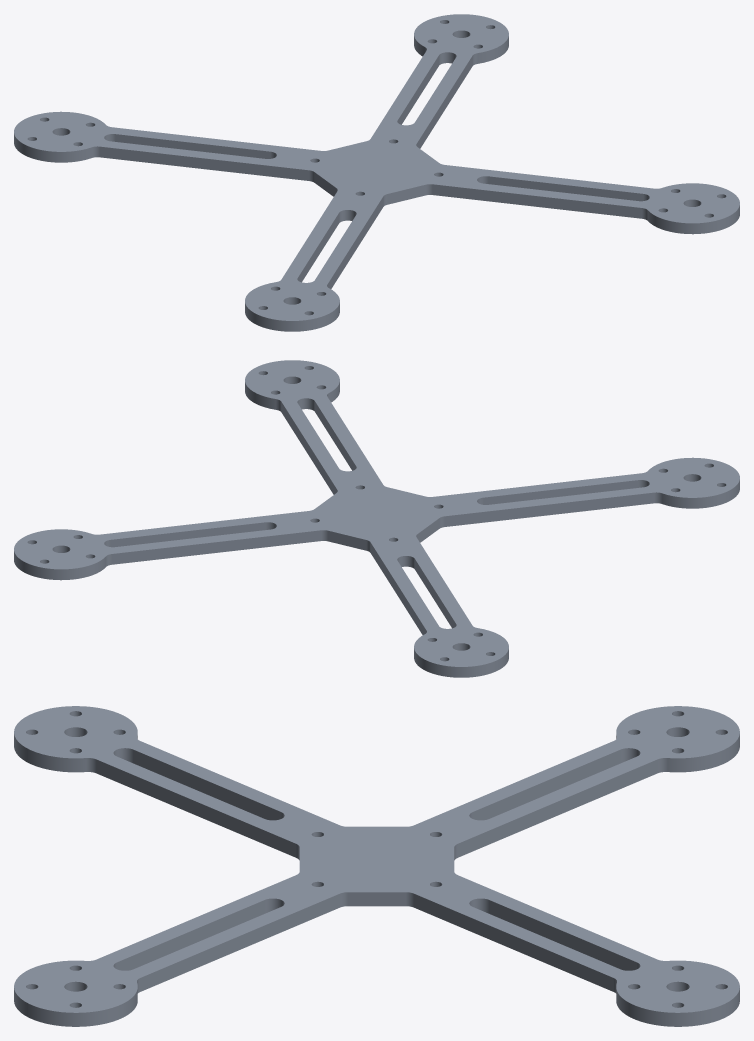
Rendered from step-5-preview-1.glb.
The picture shows the model from 3 angles, top to bottom: view 1: azimuth 30°, elevation 25°; view 2: azimuth 150°, elevation 25°; view 3: azimuth 270°, elevation 25°; orthographic projection. The views are drawn at different scales.
Parts seen in each view (by area): view 1: preview_4, preview_21, preview_22, preview_51, preview_59, preview_33, preview_17, preview_18, preview_5, preview_29; view 2: preview_4, preview_6, preview_30, preview_66, preview_40, preview_18, preview_0, preview_33, preview_13, preview_14; view 3: preview_4, preview_14, preview_29, preview_5, preview_13, preview_42, preview_57, preview_49, preview_68, preview_0, preview_17, preview_18 (+2 smaller).
Boxes of the visible parts, x1=… form: preview_4: x1=14, y1=14, x2=739, y2=320; preview_21: x1=432, y1=184, x2=641, y2=218; preview_22: x1=99, y1=146, x2=308, y2=180; preview_51: x1=488, y1=176, x2=643, y2=201; preview_59: x1=115, y1=134, x2=270, y2=158; preview_33: x1=245, y1=302, x2=339, y2=331; preview_17: x1=648, y1=205, x2=739, y2=234; preview_18: x1=14, y1=133, x2=91, y2=162; preview_5: x1=416, y1=56, x2=472, y2=148; preview_29: x1=327, y1=197, x2=383, y2=288; preview_4: x1=14, y1=360, x2=739, y2=666; preview_6: x1=112, y1=530, x2=321, y2=564; preview_30: x1=445, y1=492, x2=654, y2=526; preview_66: x1=110, y1=522, x2=265, y2=547; preview_40: x1=483, y1=480, x2=638, y2=504; preview_18: x1=414, y1=648, x2=508, y2=677; preview_0: x1=14, y1=551, x2=105, y2=580; preview_33: x1=662, y1=479, x2=739, y2=508; preview_13: x1=281, y1=402, x2=337, y2=494; preview_14: x1=370, y1=543, x2=426, y2=634; preview_4: x1=14, y1=706, x2=739, y2=1012; preview_14: x1=457, y1=759, x2=657, y2=857; preview_29: x1=96, y1=759, x2=296, y2=857; preview_5: x1=414, y1=894, x2=613, y2=991; preview_13: x1=140, y1=894, x2=339, y2=991; preview_42: x1=133, y1=749, x2=281, y2=820; preview_57: x1=472, y1=749, x2=620, y2=820; preview_49: x1=117, y1=900, x2=264, y2=970; preview_68: x1=489, y1=900, x2=636, y2=970; preview_0: x1=616, y1=988, x2=739, y2=1026; preview_17: x1=14, y1=988, x2=137, y2=1026; preview_18: x1=616, y1=734, x2=739, y2=772.
Bounding box in the file's own units: 0.1876 × 0.004 × 0.1876.
